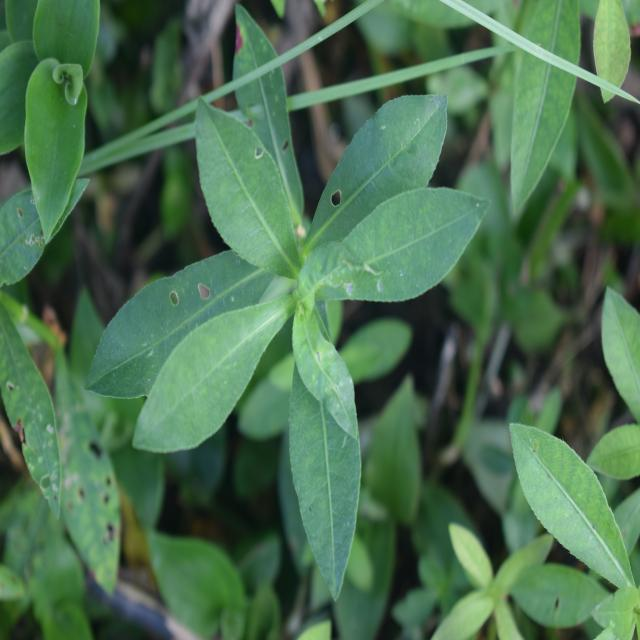Alligatorweed: (147, 44, 463, 561)
